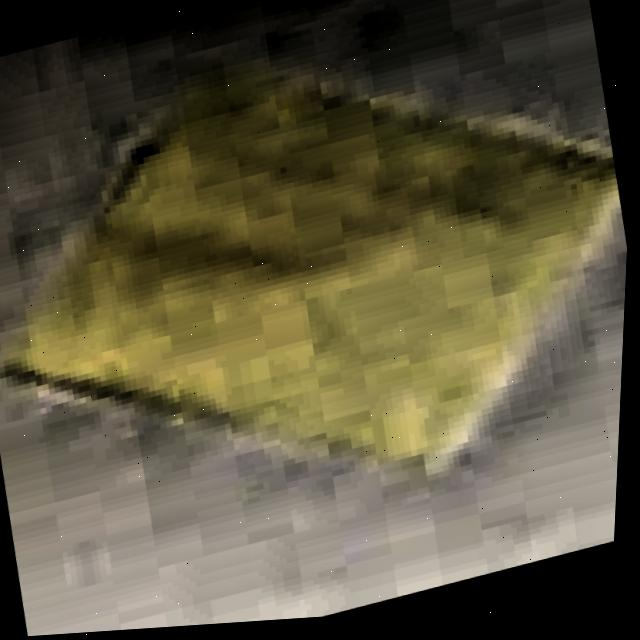paper: (4, 42, 622, 494)
